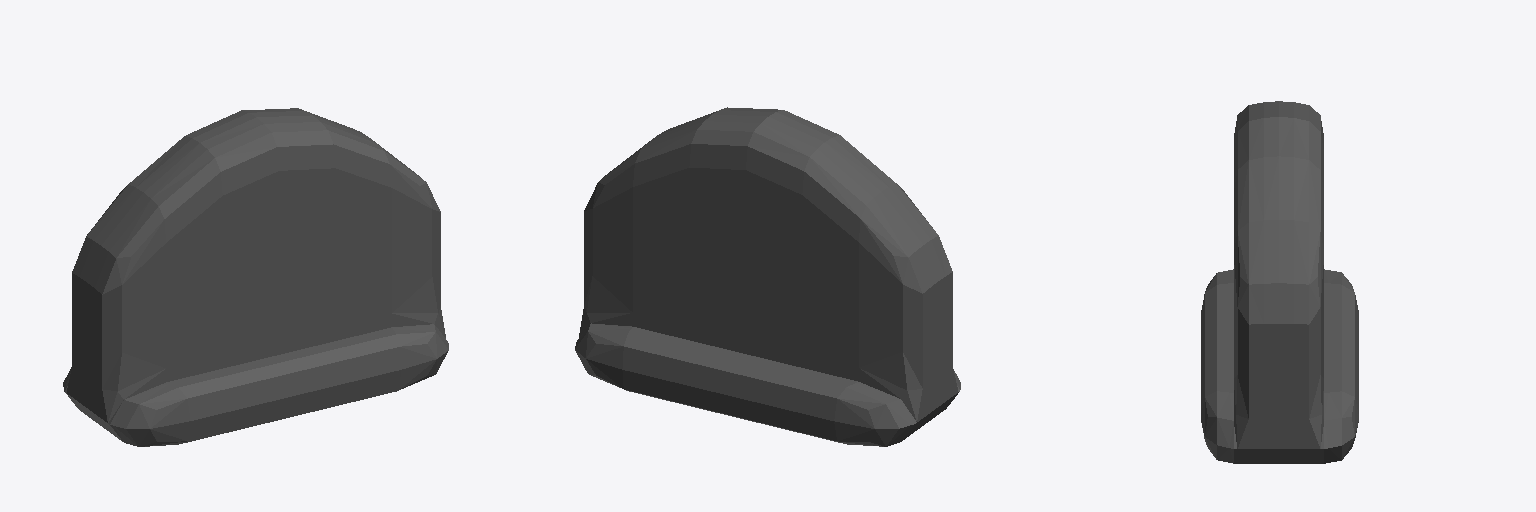
The model's file is RoadBlock.obj.
3 views of the same model, side by side, from view 1: azimuth 30°, elevation 25°; view 2: azimuth 150°, elevation 25°; view 3: azimuth 270°, elevation 25° (orthographic).
Parts seen in each view (by area): view 1: pCube1; view 2: pCube1; view 3: pCube1.
Boxes of the visible parts, x1,y1,x2,y2 form: pCube1: [63, 108, 448, 446]; pCube1: [575, 107, 960, 446]; pCube1: [1201, 101, 1358, 463].
Size of the model in its own units: 31.55 by 24.77 by 12.82.